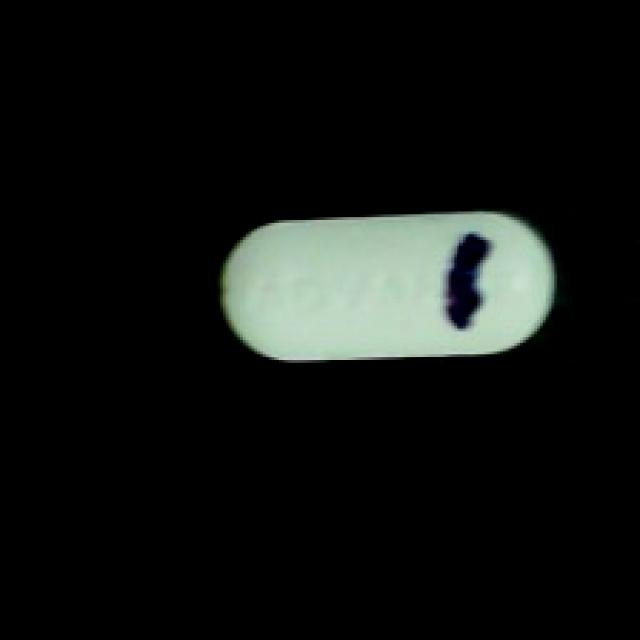defected: (211, 200, 563, 363)
